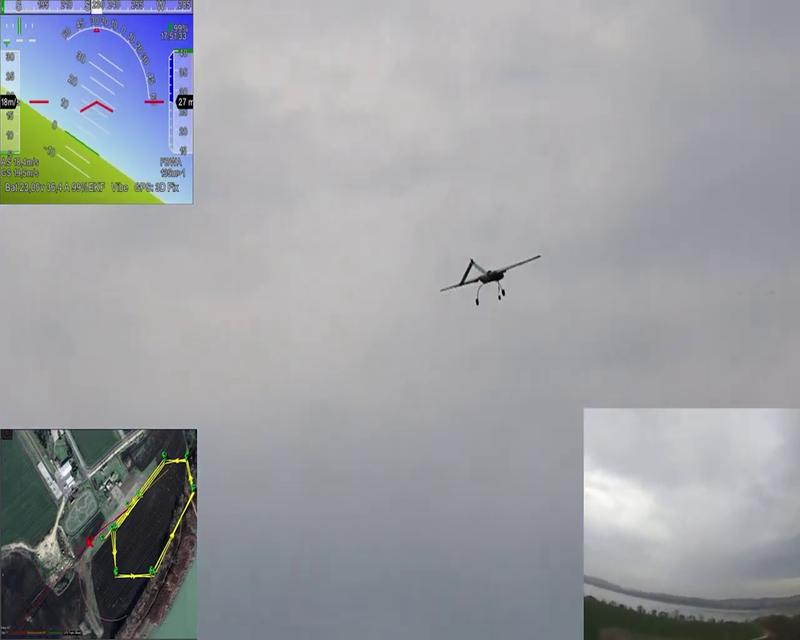UAV: (440, 254, 541, 306)
